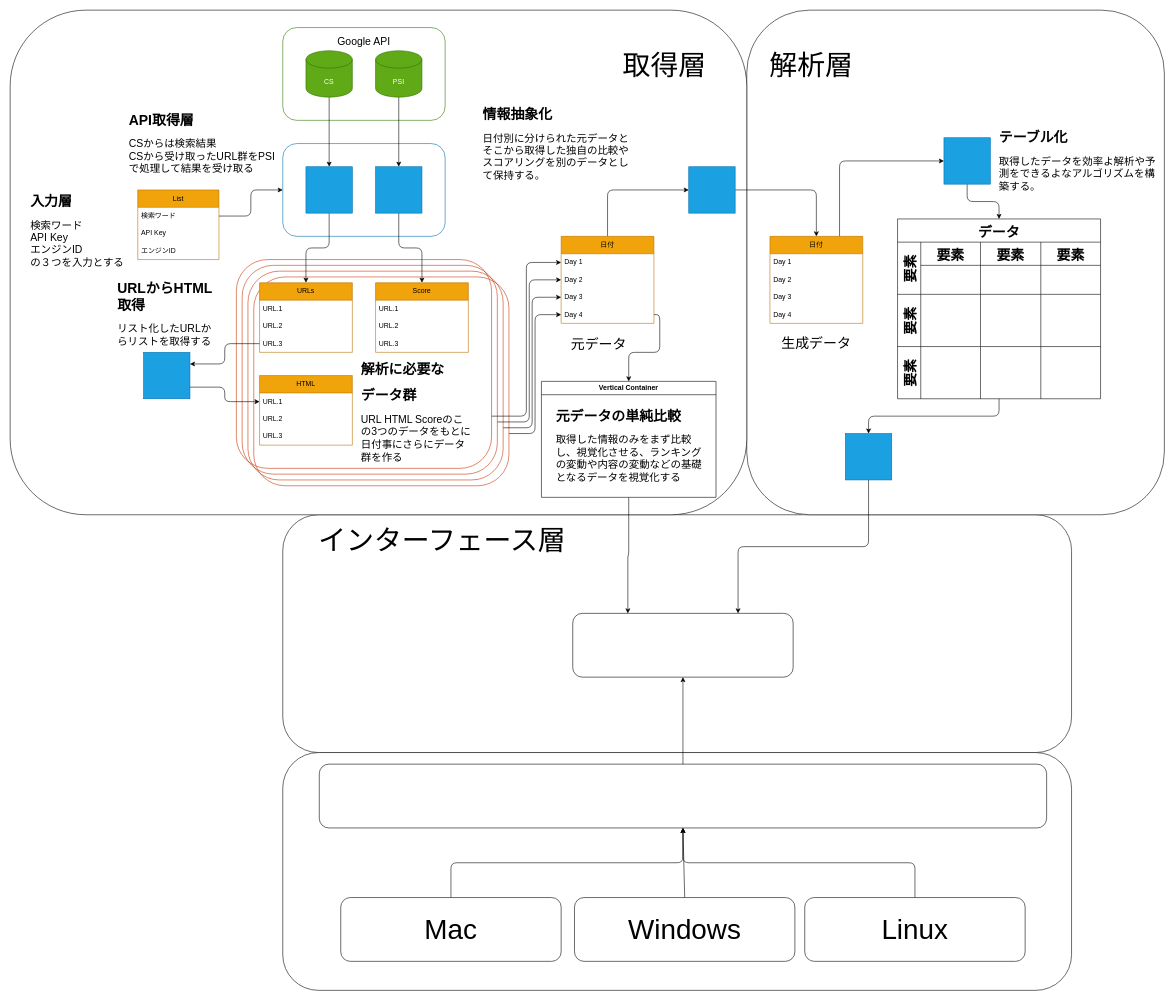
The diagram is 1175 pixels wide and 1001 high, and some of its shapes have lost their labels. The shapes that lost their labels are listed below. From the top down, each one's centre as x and y in pixels, then its label:
At point 682,645: "TUI".
At point 683,796: "ターミナル".
